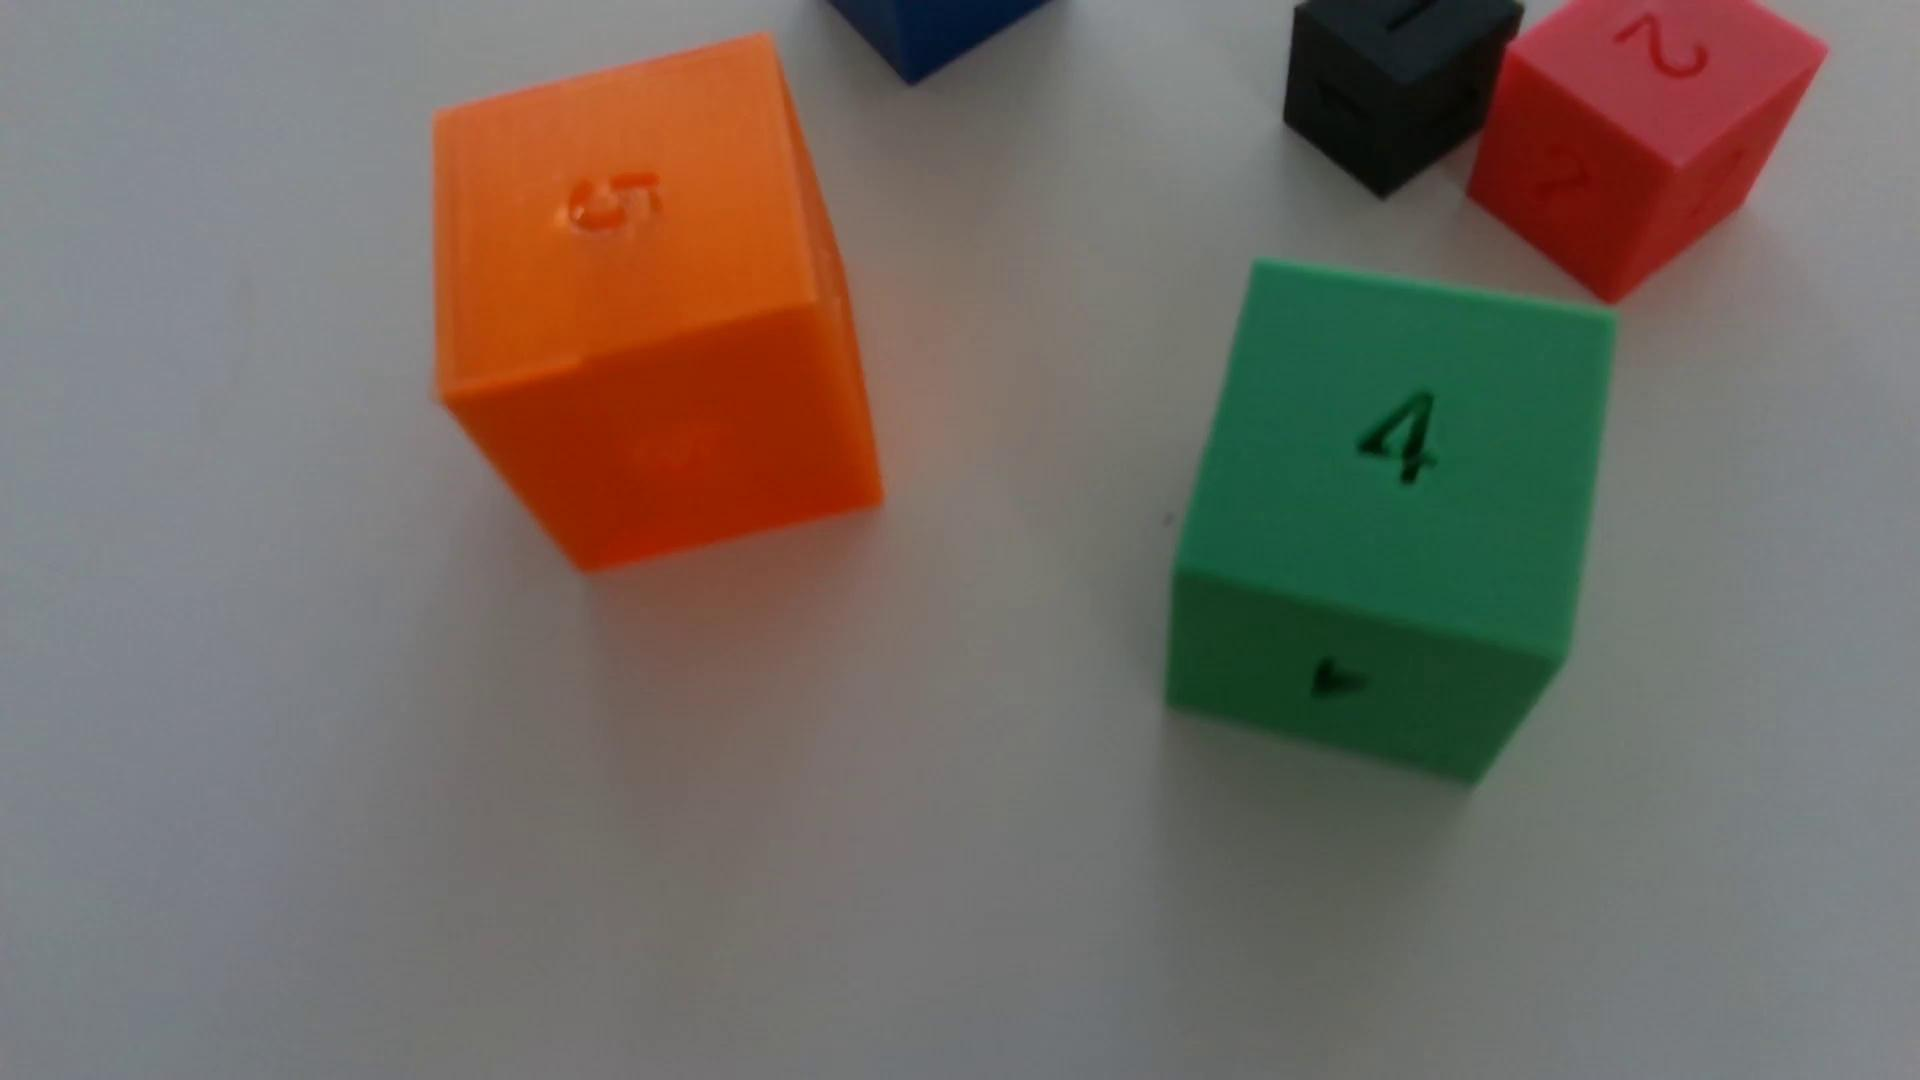black: (1282, 0, 1524, 199)
blue: (827, 0, 1048, 86)
green: (1166, 262, 1617, 785)
orange: (433, 36, 884, 572)
red: (1466, 0, 1826, 305)
